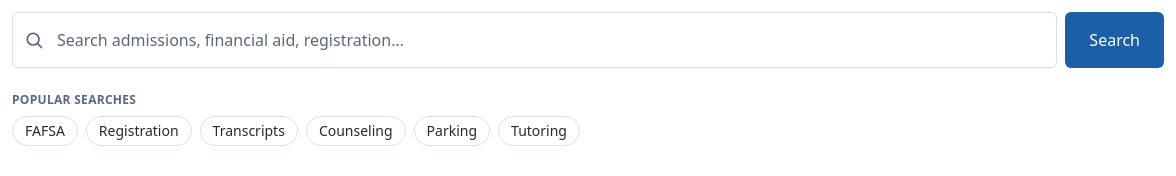
Test case: SearchExperience › shows an empty state for a query with no matches
Type "quantumteadragons" into the search field at (535,40), box [12,12,1057,68]
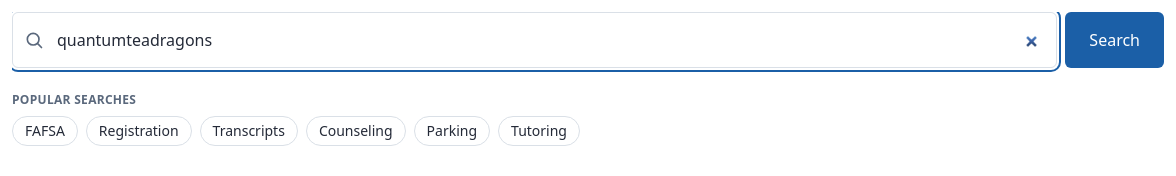
Click the button "Search" at (1115,40), box [1065,12,1164,68]
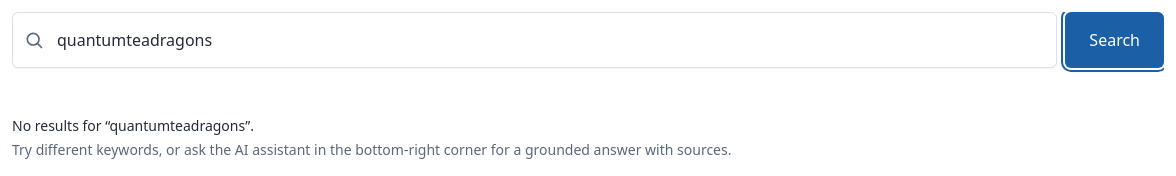
Expected: the text "No results for “quantumteadragons”." is shown, [12,116,254,135]
